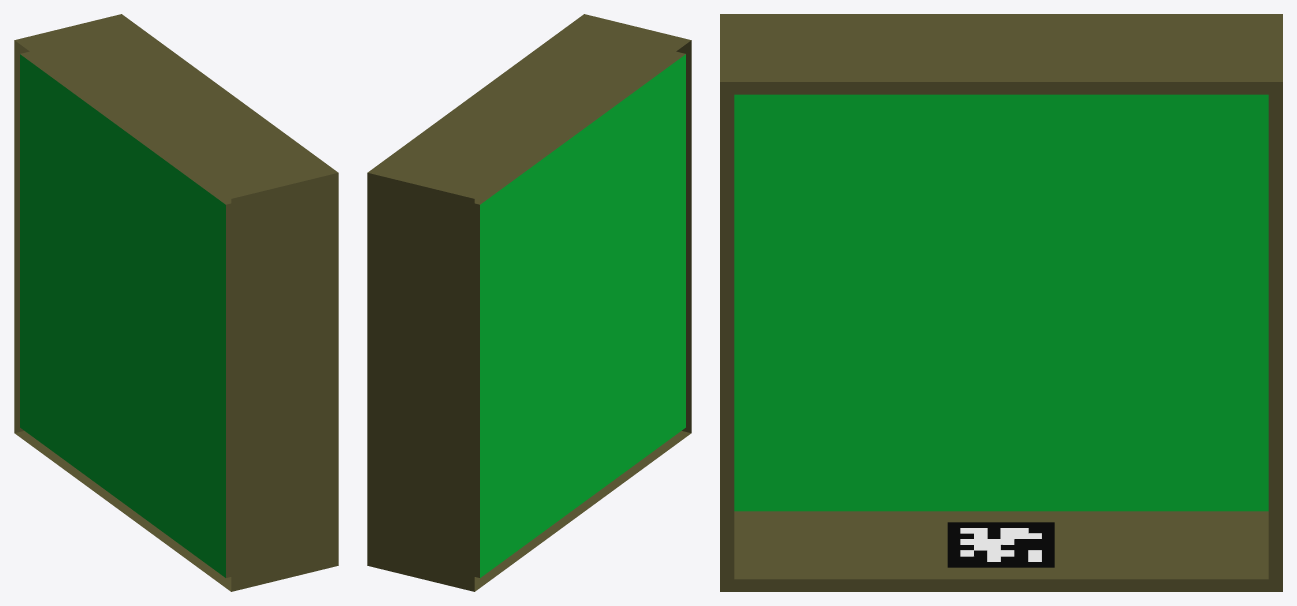
File: world.obj
3 renders of one model, left to right at view 1: azimuth 30°, elevation 25°; view 2: azimuth 150°, elevation 25°; view 3: azimuth 270°, elevation 25°, orthographic. The views are drawn at different scales.
Visible parts, largest first — view 1: world; view 2: world; view 3: world.
Boxes of the visible parts, box(x1,y1,x2,y2) form: world: box(14, 14, 338, 591); world: box(367, 14, 691, 591); world: box(720, 14, 1282, 591).
Size of the model in its own units: 0.3 by 1.05 by 1.05.
3 materials, 1 textured.
